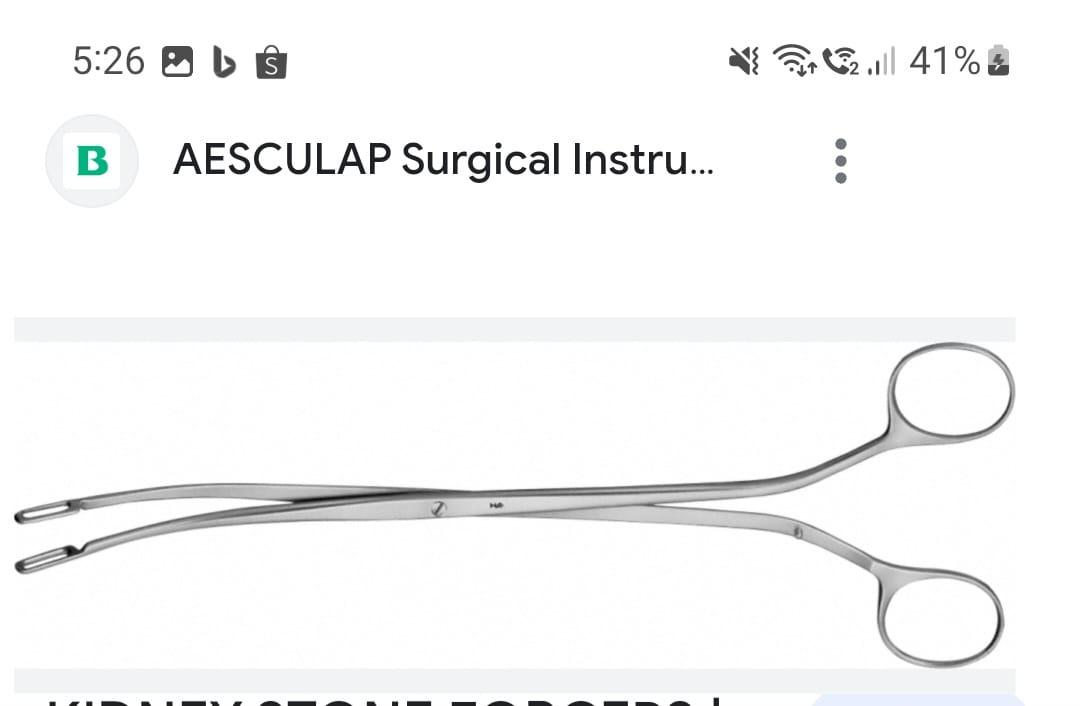Desjardin Forceps: (9, 338, 1027, 664)
